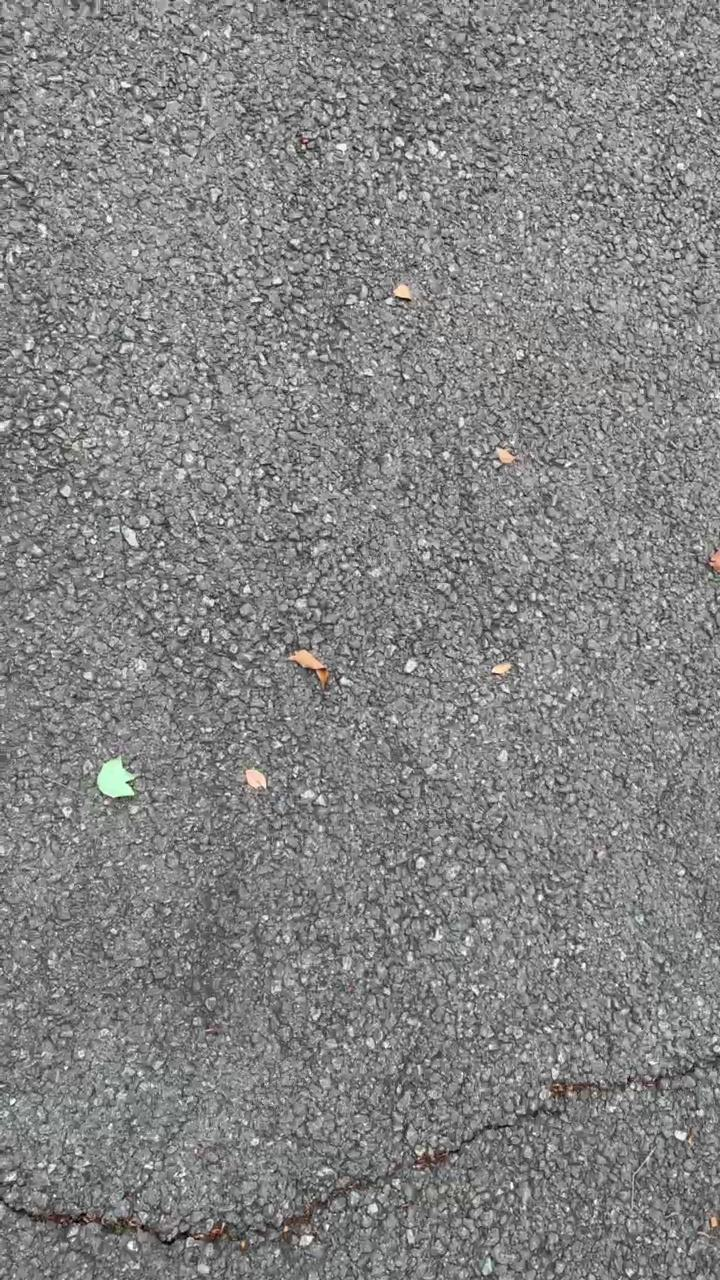Crack: (1, 1051, 720, 1241)
